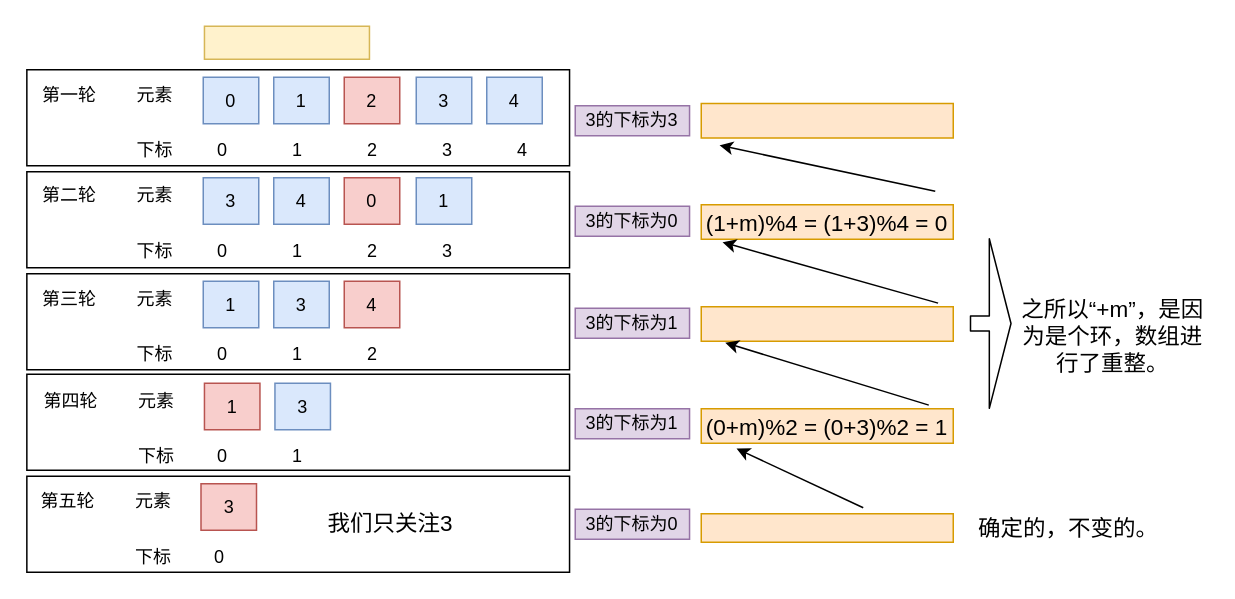
This 1235x599 diagram has some shape labels left out. Each missing label, with the centre of its shape:
"(0+m)%5 = (0+3)%5 = 3" belongs at point 826,120.
"(1+m)%3 = (1+3)%3 = 1" belongs at point 826,323.
"m % 1 = 0" belongs at point 826,527.
"n = 5, m = 3" belongs at point 286,42.
